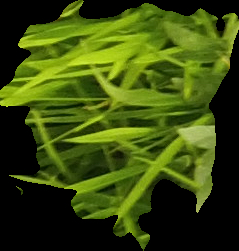grass: (1, 1, 237, 250)
